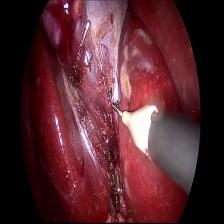Hook: (108, 95, 163, 155)
